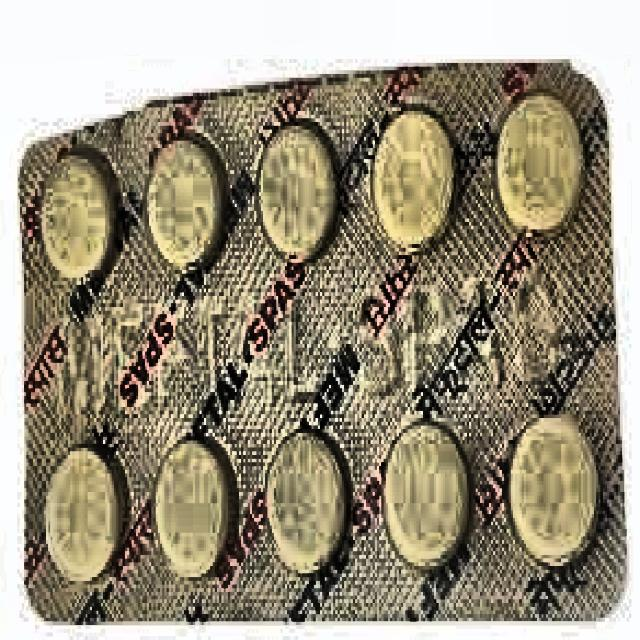Meftal: (22, 116, 620, 609)
